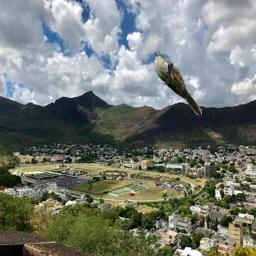Cuckoo: (154, 52, 202, 115)
